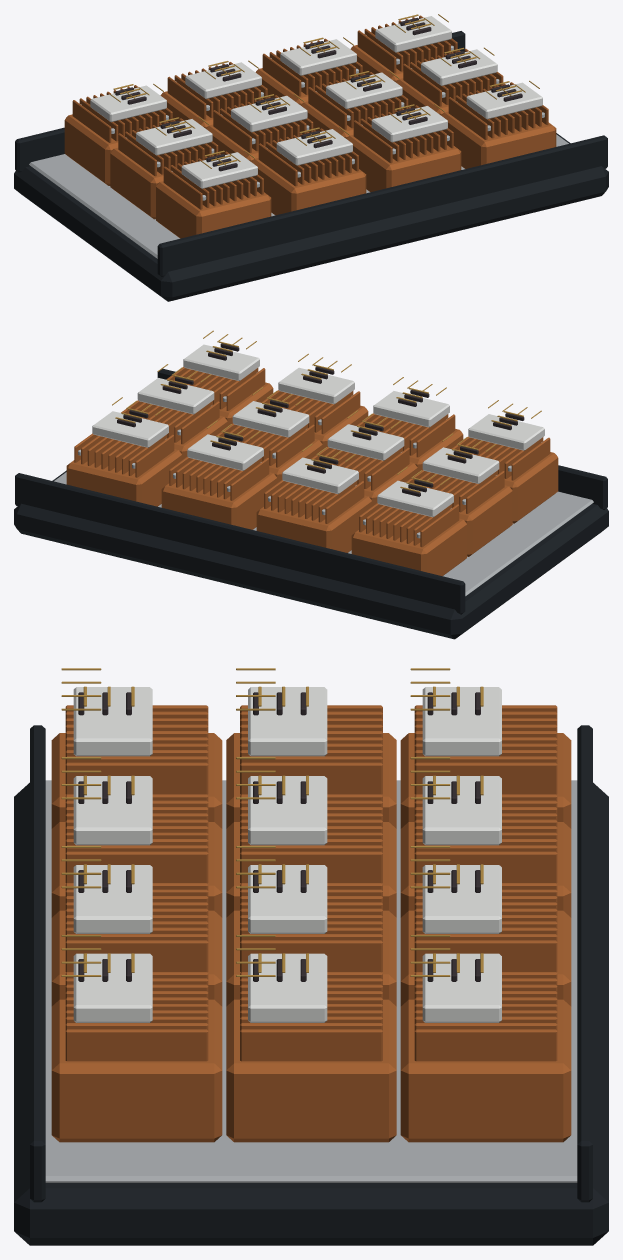
File: diode-bars.glb
3 renders of one model, top to bottom at view 1: azimuth 30°, elevation 25°; view 2: azimuth 150°, elevation 25°; view 3: azimuth 270°, elevation 25°, orthographic. The views are drawn at different scales.
Parts seen in each view (by area): view 1: small graphite exhibit tray, raised tray edge, brushed aluminium tray floor, copper heat sink, copper heat sink.003, copper heat sink.001, copper heat sink.002, copper heat sink.008, copper heat sink.004, raised tray edge.001, insulating white ceramic carrier.003, insulating white ceramic carrier.010 (+28 smaller); view 2: small graphite exhibit tray, raised tray edge.001, brushed aluminium tray floor, copper heat sink.008, copper heat sink.011, copper heat sink.010, copper heat sink.009, copper heat sink, copper heat sink.004, insulating white ceramic carrier.007, insulating white ceramic carrier.006, insulating white ceramic carrier.004 (+28 smaller); view 3: small graphite exhibit tray, brushed aluminium tray floor, copper heat sink.003, copper heat sink.011, copper heat sink.007, raised tray edge, raised tray edge.001, insulating white ceramic carrier.001, insulating white ceramic carrier, insulating white ceramic carrier.005, insulating white ceramic carrier.004, insulating white ceramic carrier.008 (+40 smaller).
Part boxes in pixels (bbox=[...]): small graphite exhibit tray: bbox=[14, 133, 608, 301]; raised tray edge: bbox=[157, 135, 607, 276]; brushed aluminium tray floor: bbox=[29, 134, 568, 258]; copper heat sink: bbox=[156, 181, 271, 238]; copper heat sink.003: bbox=[442, 111, 556, 168]; copper heat sink.001: bbox=[252, 158, 366, 215]; copper heat sink.002: bbox=[347, 134, 461, 192]; copper heat sink.008: bbox=[64, 114, 118, 185]; copper heat sink.004: bbox=[110, 147, 163, 219]; raised tray edge.001: bbox=[15, 31, 465, 172]; insulating white ceramic carrier.003: bbox=[466, 82, 542, 119]; insulating white ceramic carrier.010: bbox=[280, 39, 356, 75]; small graphite exhibit tray: bbox=[14, 470, 608, 639]; raised tray edge.001: bbox=[15, 473, 465, 614]; brushed aluminium tray floor: bbox=[54, 472, 593, 596]; copper heat sink.008: bbox=[351, 518, 466, 576]; copper heat sink.011: bbox=[66, 449, 182, 506]; copper heat sink.010: bbox=[161, 472, 277, 529]; copper heat sink.009: bbox=[256, 495, 372, 552]; copper heat sink: bbox=[504, 452, 558, 523]; copper heat sink.004: bbox=[459, 485, 512, 556]; insulating white ceramic carrier.007: bbox=[137, 378, 214, 414]; insulating white ceramic carrier.006: bbox=[232, 401, 309, 437]; insulating white ceramic carrier.004: bbox=[422, 447, 499, 483]; small graphite exhibit tray: bbox=[14, 782, 608, 1245]; brushed aluminium tray floor: bbox=[45, 780, 577, 1182]; copper heat sink.003: bbox=[51, 999, 222, 1142]; copper heat sink.011: bbox=[400, 999, 571, 1142]; copper heat sink.007: bbox=[226, 999, 396, 1142]; raised tray edge: bbox=[30, 725, 45, 1202]; raised tray edge.001: bbox=[577, 725, 592, 1202]; insulating white ceramic carrier.001: bbox=[73, 776, 152, 845]; insulating white ceramic carrier: bbox=[73, 687, 152, 756]; insulating white ceramic carrier.005: bbox=[248, 776, 327, 845]; insulating white ceramic carrier.004: bbox=[248, 687, 327, 756]; insulating white ceramic carrier.008: bbox=[422, 687, 501, 756].
Size of the model in its own units: 0.25 by 0.0612 by 0.15.
